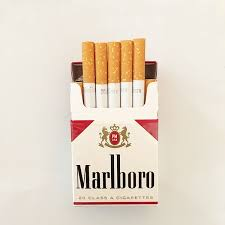marlboro: (69, 83, 159, 206)
